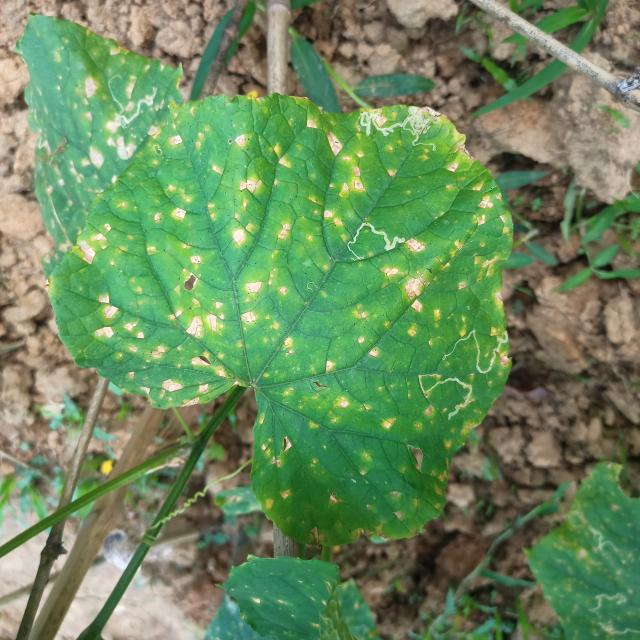disease_cucumber: (80, 112, 498, 522), (23, 37, 161, 228)
